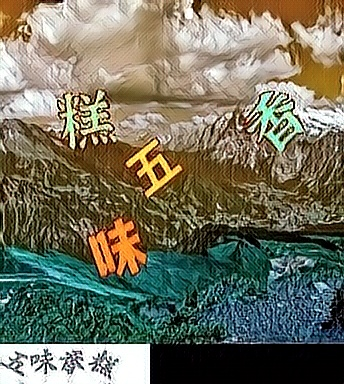B8E2: (55, 85, 119, 152)
CEB6: (86, 213, 150, 280)
CEE5: (124, 135, 188, 202)
CFE3: (242, 89, 306, 156)
